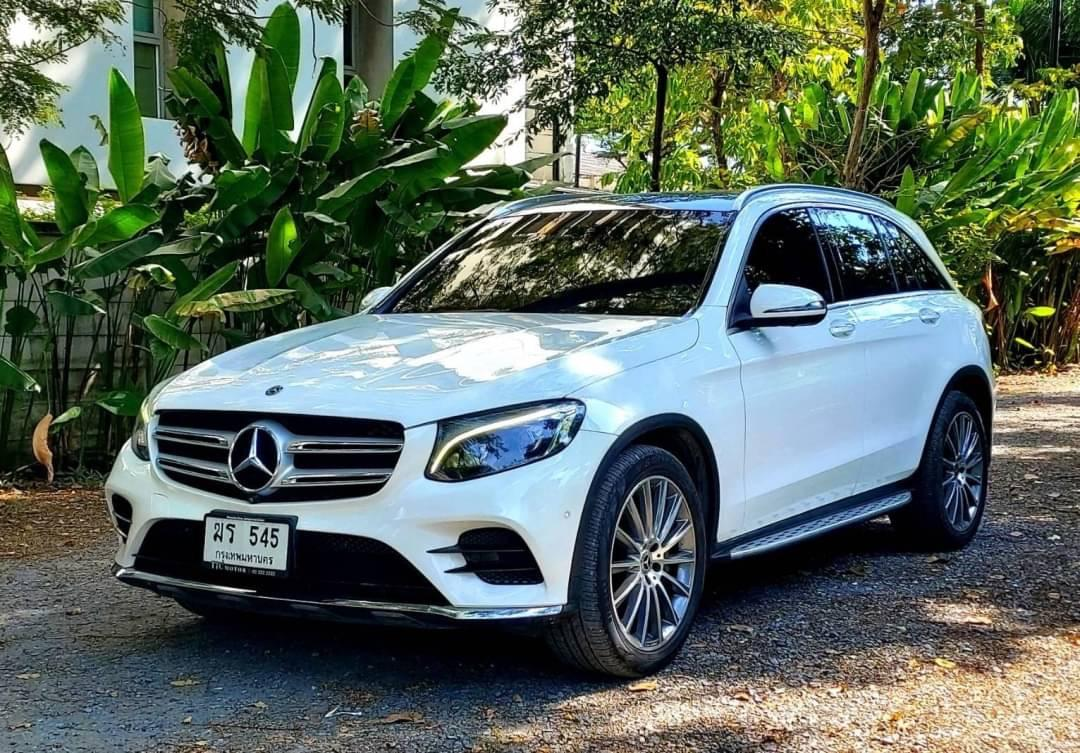license-plate: (199, 507, 294, 575)
